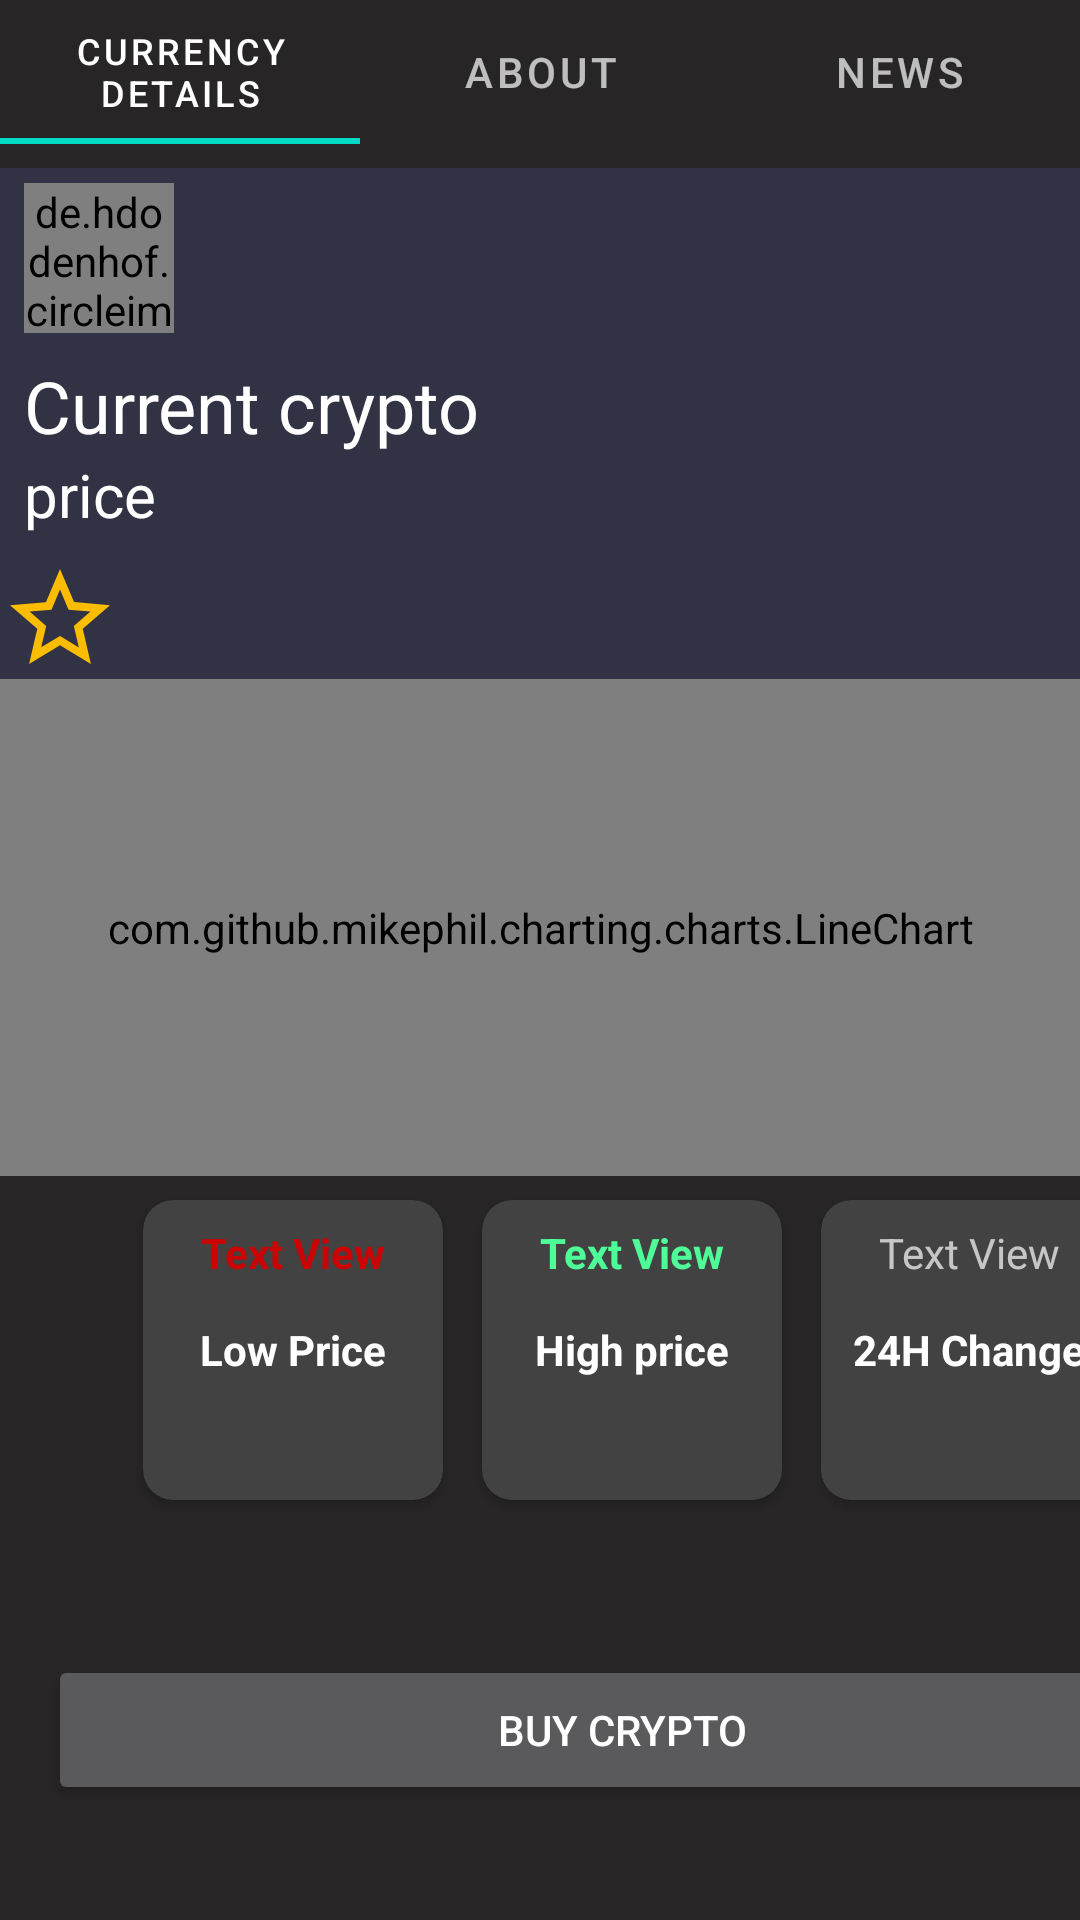

Named icons in this screenshot (1080×1920) and their centers, [x,y]:
unfavorite: [60,616]
